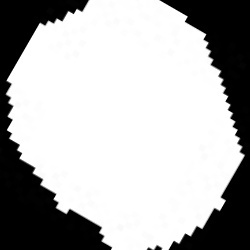spot: (7, 2, 245, 247)
